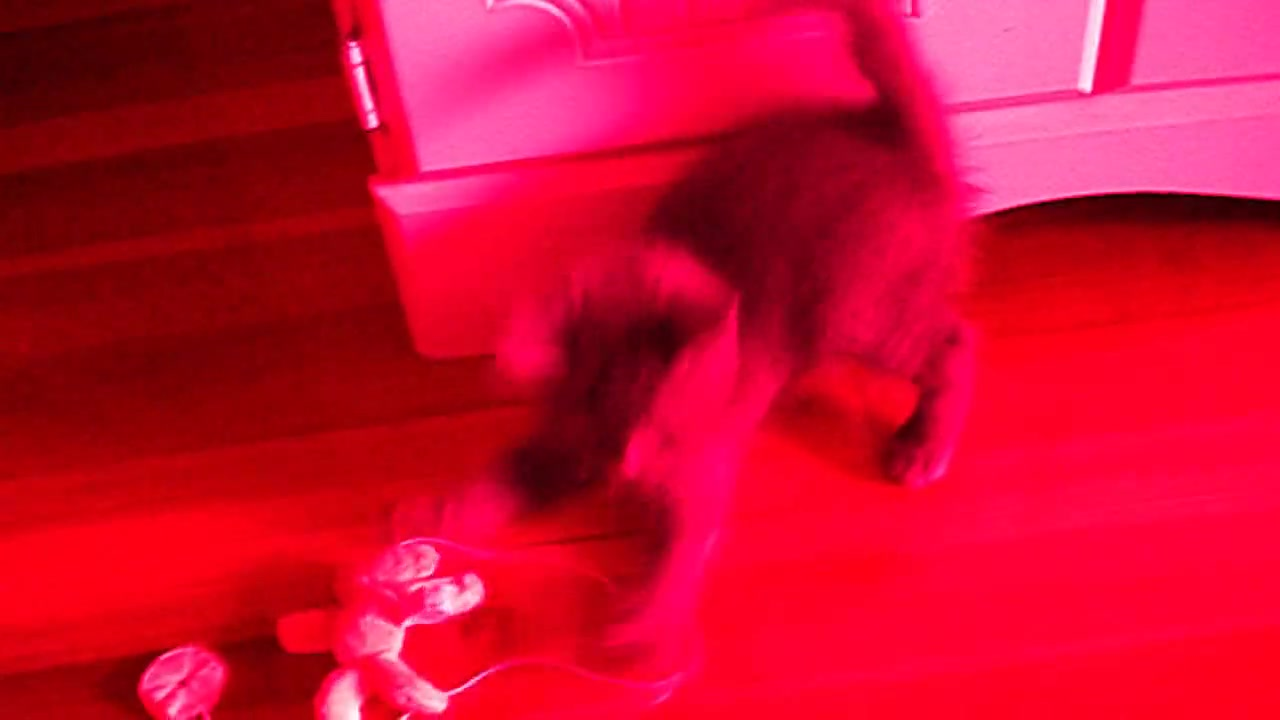cat: (510, 1, 998, 673)
